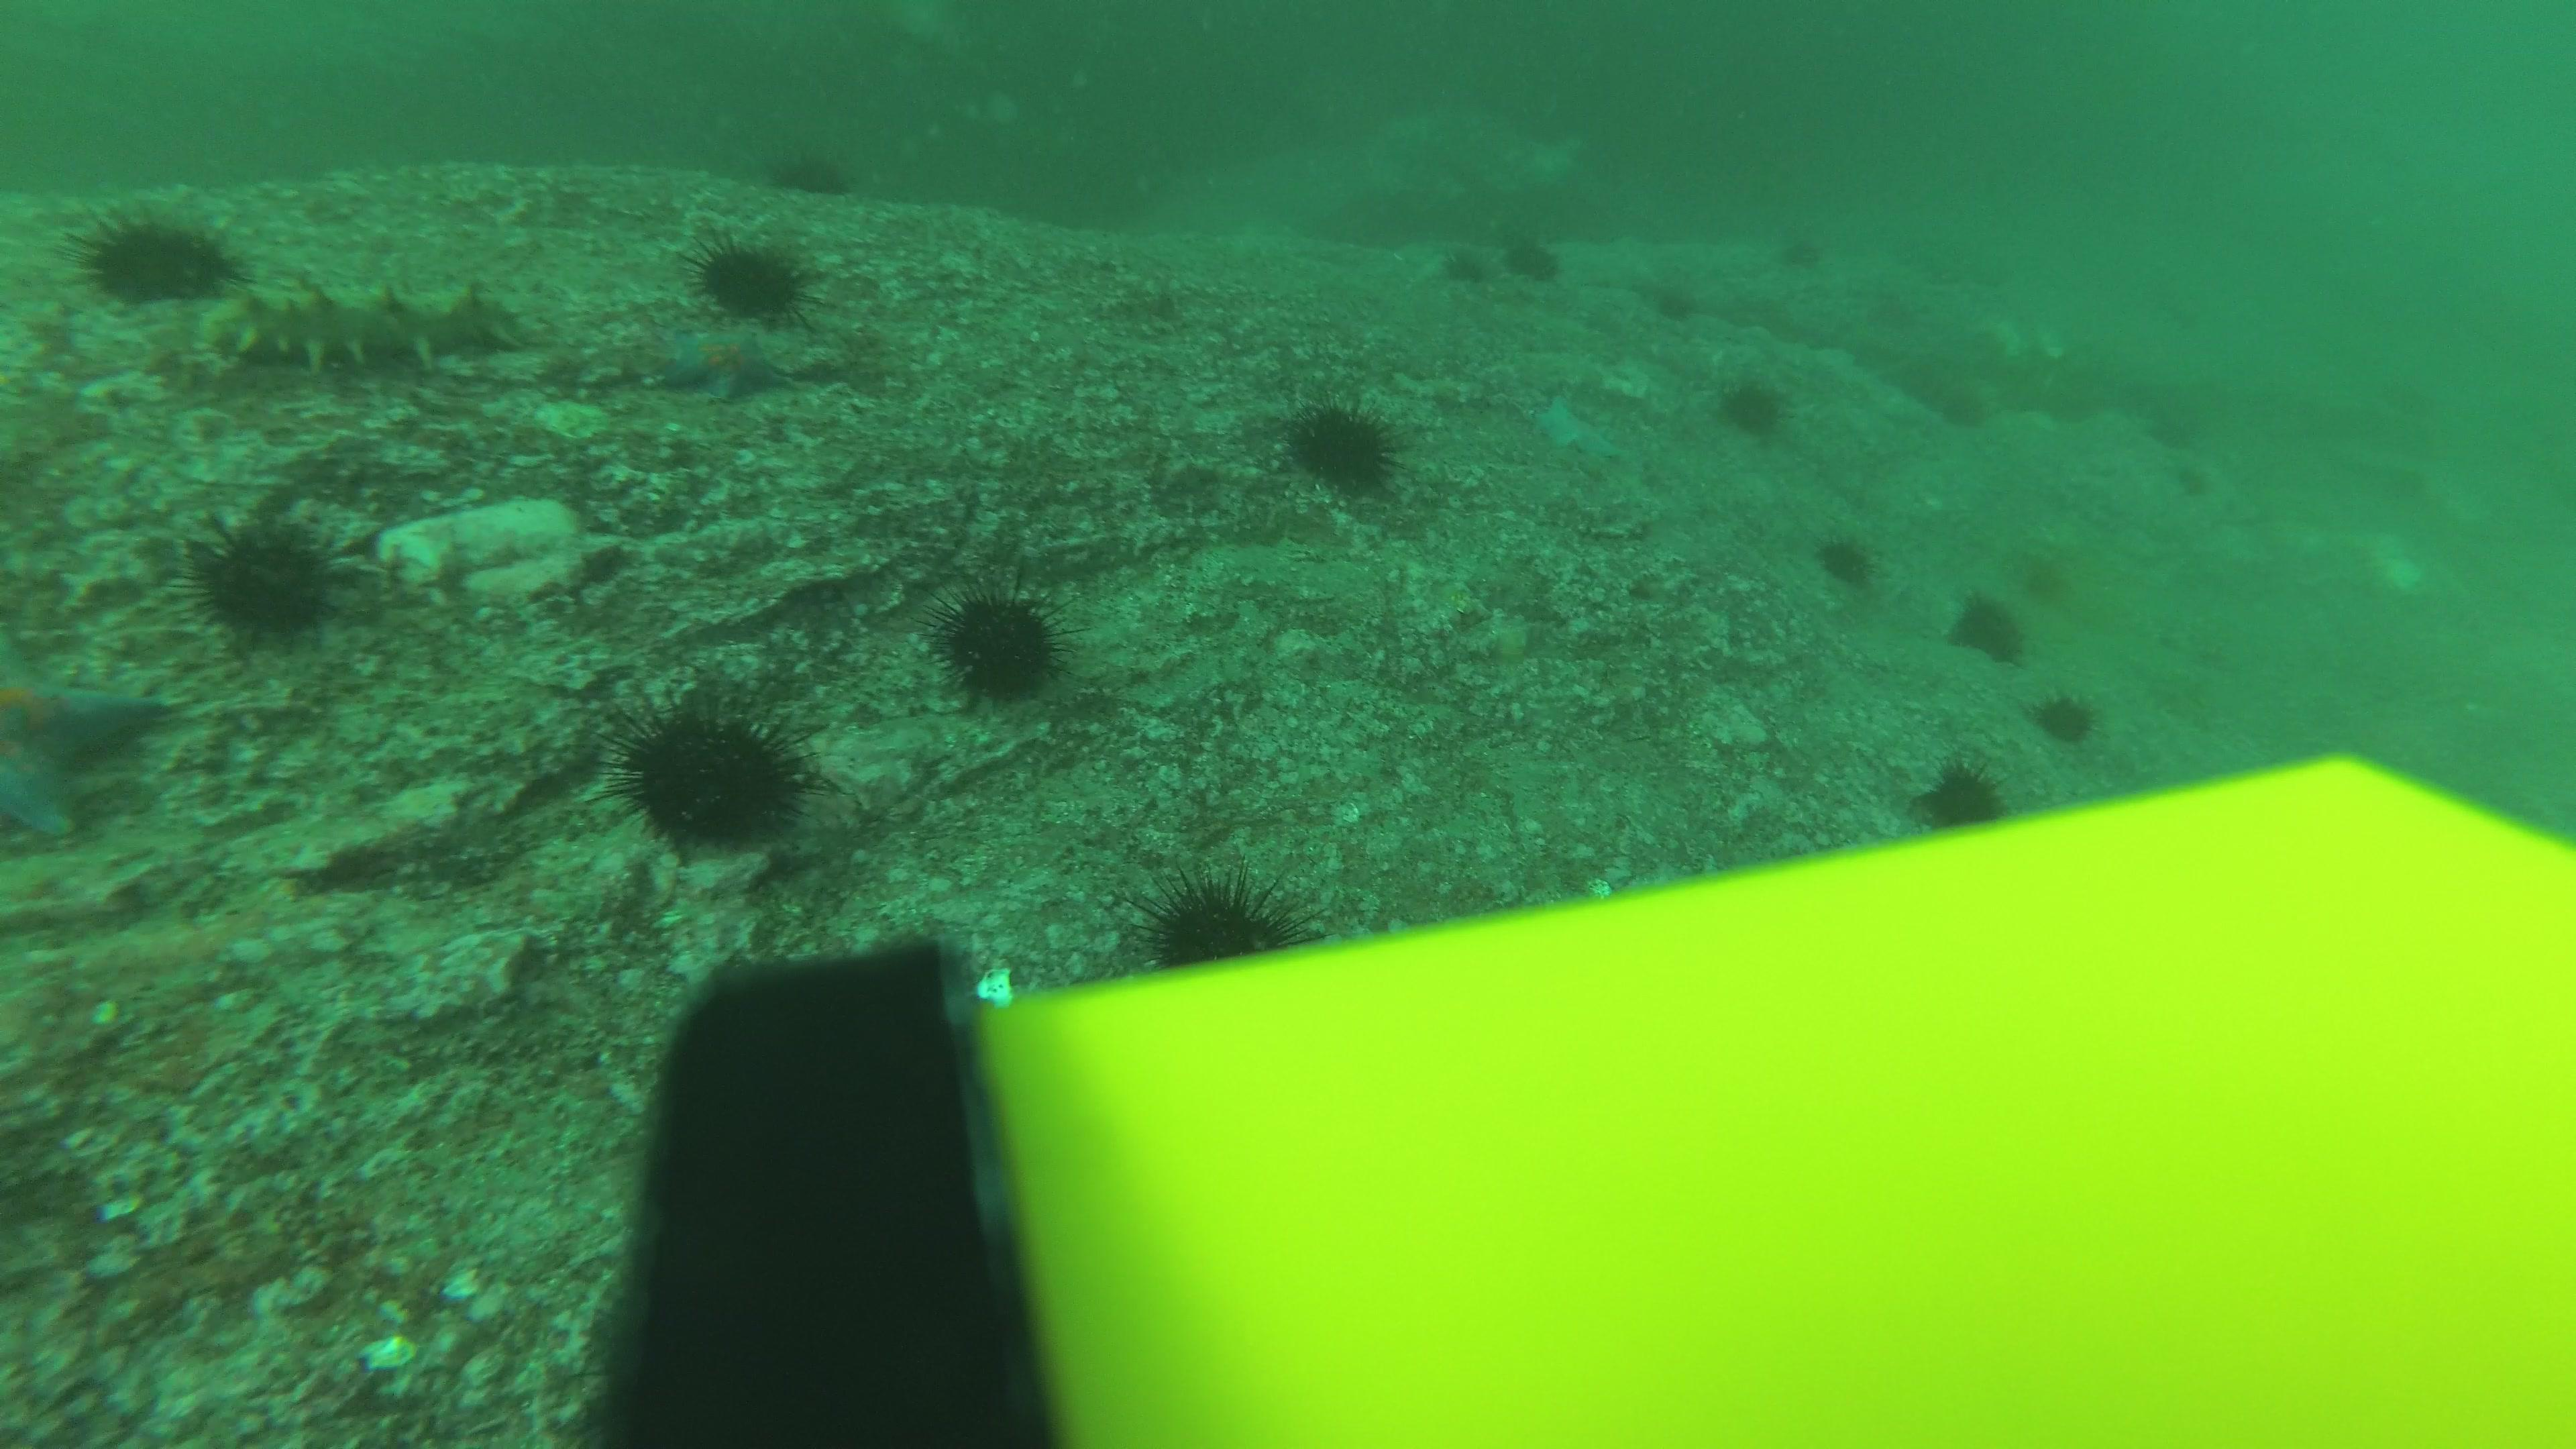urchin: (616, 689, 810, 859), (183, 507, 333, 651), (1133, 863, 1308, 978), (935, 579, 1083, 708), (676, 219, 816, 331), (78, 216, 228, 306), (1293, 392, 1415, 498), (1911, 758, 2015, 839), (1951, 594, 2022, 674), (1721, 374, 1793, 445), (1811, 529, 1878, 591), (778, 149, 851, 204), (2034, 684, 2108, 737), (1504, 235, 1566, 290), (1774, 231, 1828, 274)
